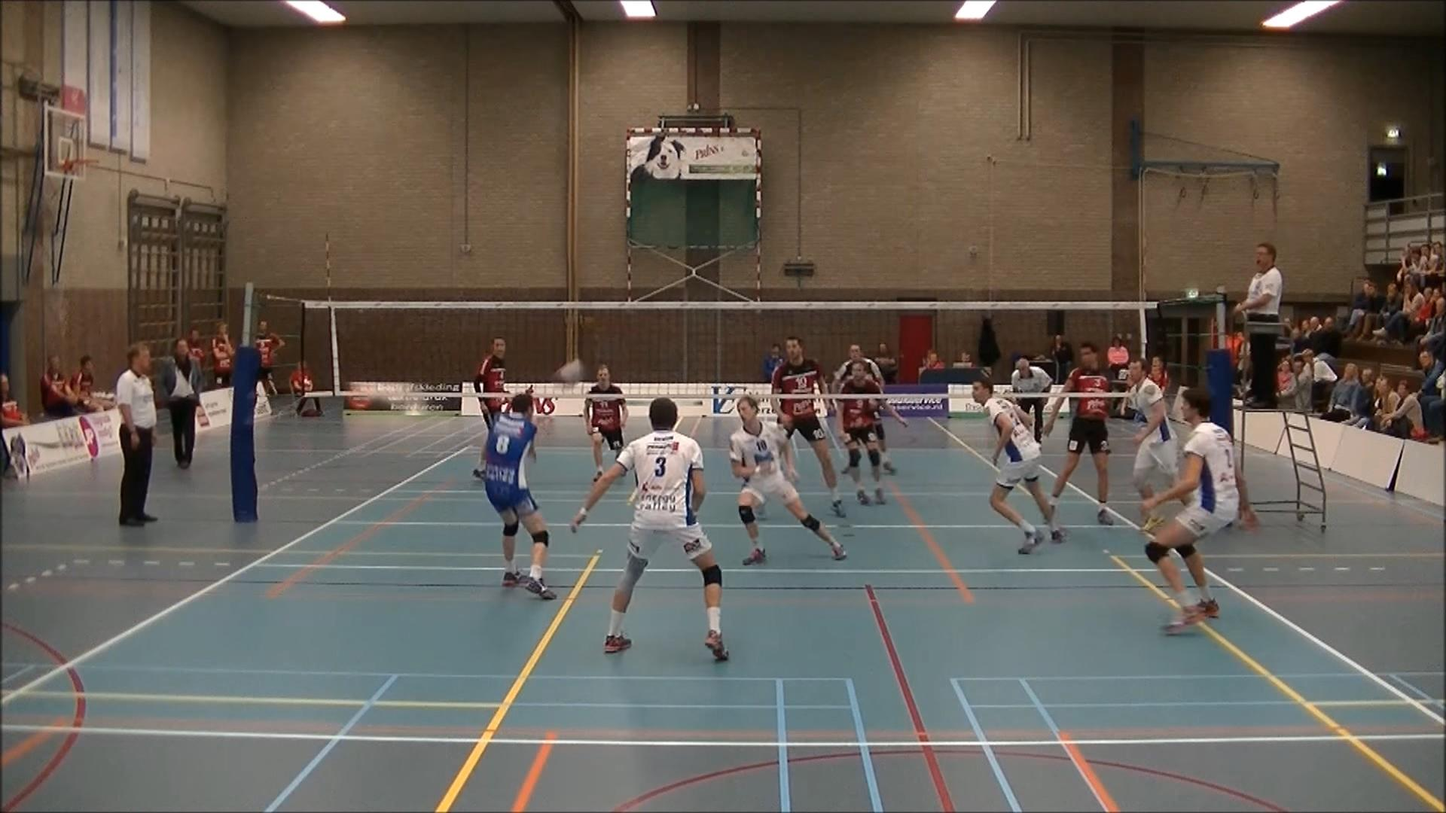Player: (571, 397, 728, 660), (1142, 388, 1255, 633), (729, 396, 846, 565), (972, 380, 1062, 554), (771, 336, 845, 516), (1051, 342, 1113, 525), (838, 361, 906, 504), (1127, 359, 1177, 499), (584, 364, 627, 480), (473, 337, 507, 427), (834, 344, 884, 389)
Receive: (479, 387, 558, 603)
ball: (554, 347, 584, 389)
